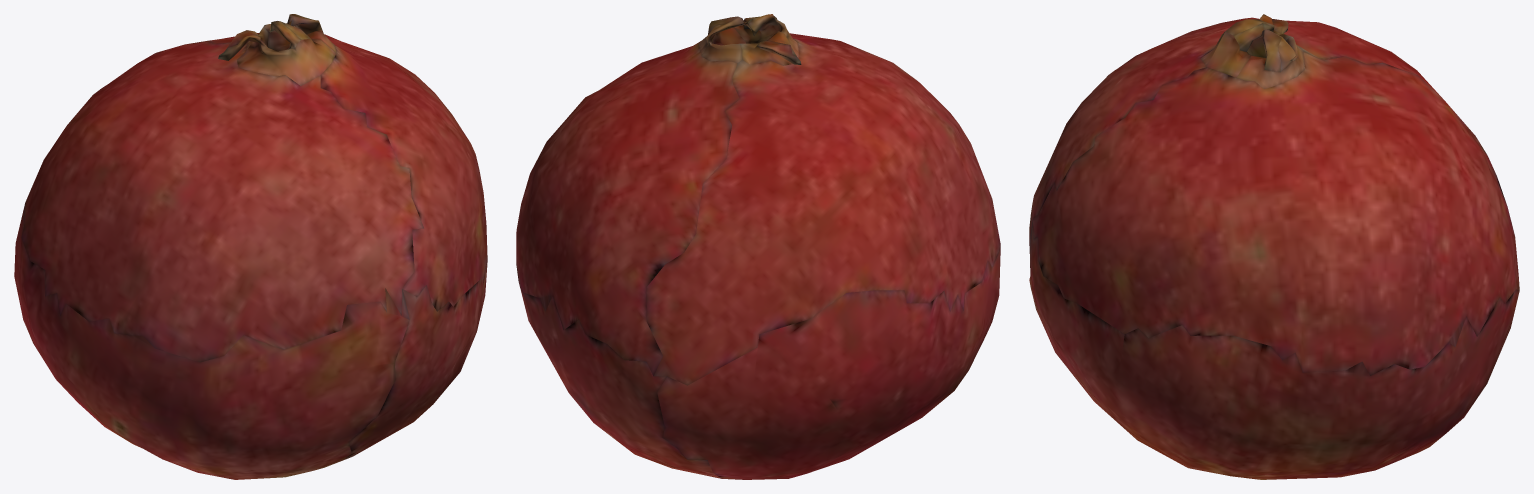
Rendered from food_pomegranate_01.glb.
3 renders of one model, left to right at view 1: azimuth 30°, elevation 25°; view 2: azimuth 150°, elevation 25°; view 3: azimuth 270°, elevation 25°, orthographic. The views are drawn at different scales.
Parts seen in each view (by area): view 1: body; view 2: body; view 3: body.
Boxes of the visible parts, x1=… form: body: x1=14, y1=14, x2=487, y2=479; body: x1=516, y1=14, x2=1000, y2=479; body: x1=1029, y1=14, x2=1519, y2=479.
Bounding box in the file's own units: 0.1136 × 0.1148 × 0.1149.
Materials: 1 (1 with a texture image).
